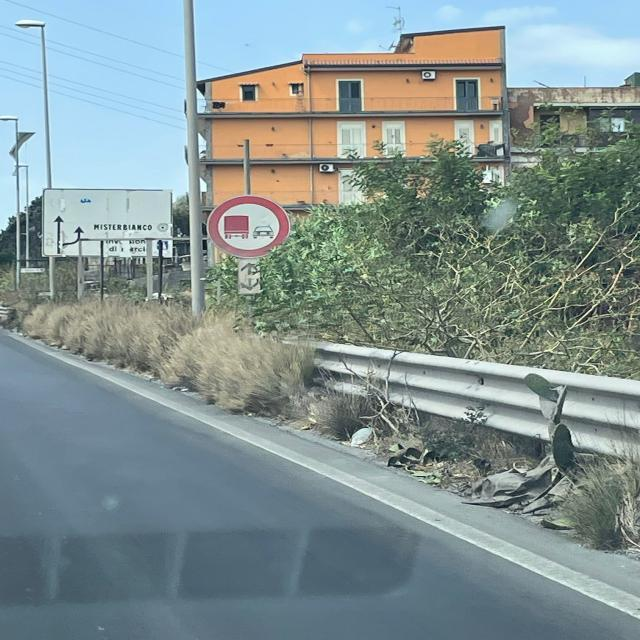forb_overtake_trucks: (208, 195, 291, 259)
